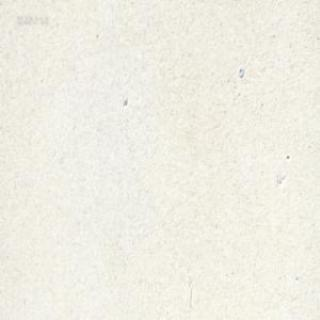Washertrack_idkeyframe: (238, 67, 244, 78)
